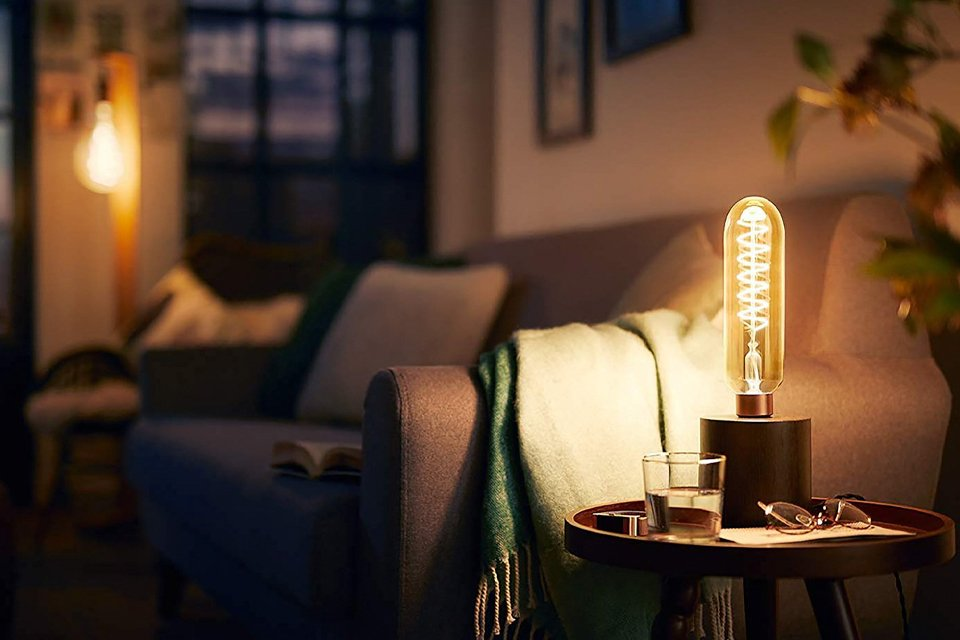bulb: (714, 192, 813, 403)
